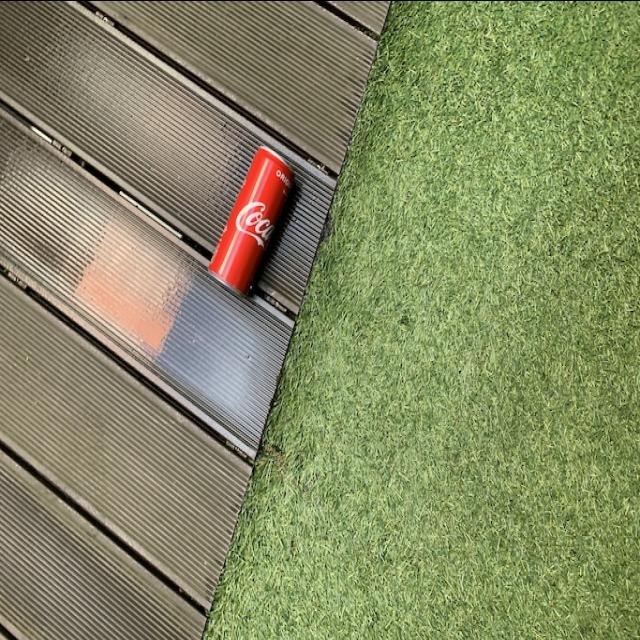Aluminum Can: (205, 137, 292, 305)
